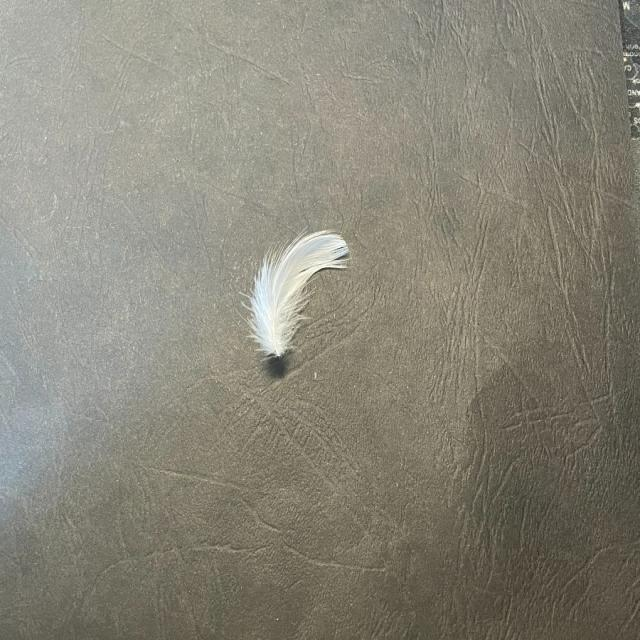feather: (244, 227, 359, 359)
